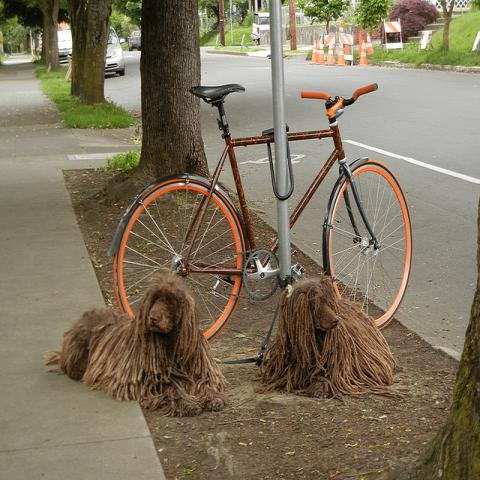car: (104, 26, 125, 76), (57, 29, 73, 61), (128, 31, 139, 51)
truck: (251, 10, 270, 46)
